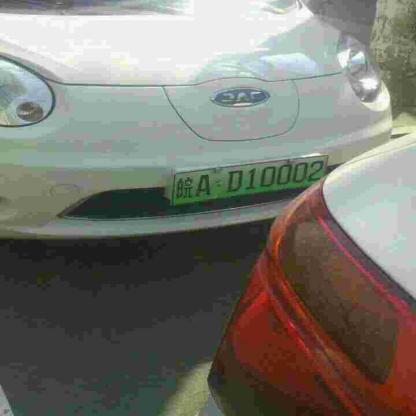lp: (173, 155, 329, 204)
